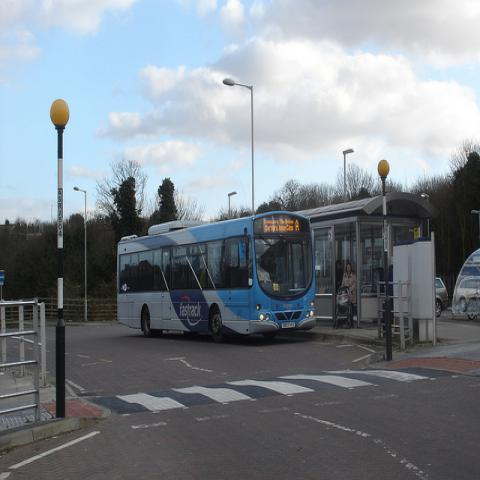bus: (114, 206, 316, 344)
car: (455, 276, 479, 312), (435, 277, 450, 318)
